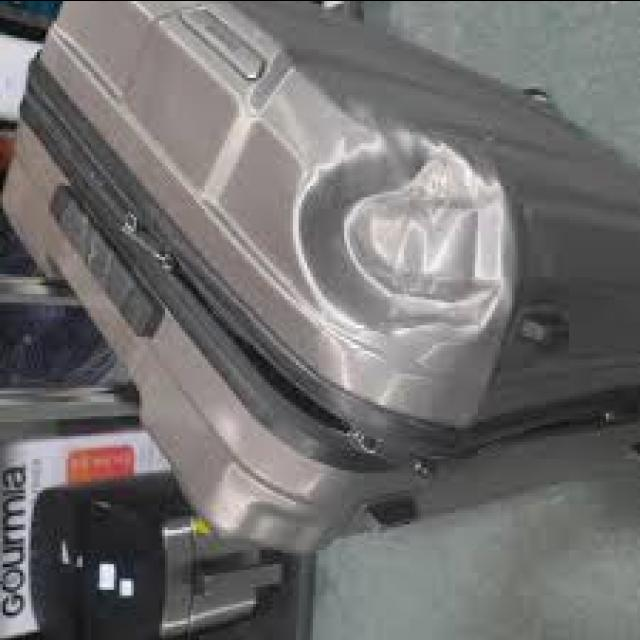Damage-bag: (129, 131, 511, 469), (205, 462, 268, 529)
